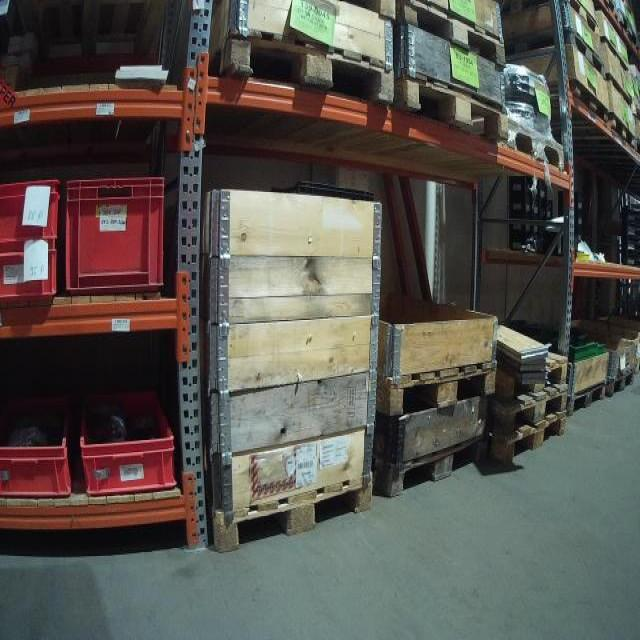pallet: (207, 475, 374, 556), (218, 31, 394, 103), (398, 74, 511, 138), (382, 358, 497, 419), (379, 436, 486, 501), (403, 5, 508, 64), (498, 30, 607, 82), (535, 82, 608, 132), (501, 416, 567, 467), (502, 116, 565, 167), (498, 389, 571, 433), (506, 0, 598, 34), (505, 360, 566, 403), (604, 107, 639, 161), (566, 380, 607, 417), (606, 368, 635, 399), (354, 2, 401, 21)
small_load_carrier: (66, 179, 164, 291), (80, 396, 176, 493), (2, 397, 76, 502), (2, 177, 63, 248), (0, 248, 62, 301)
